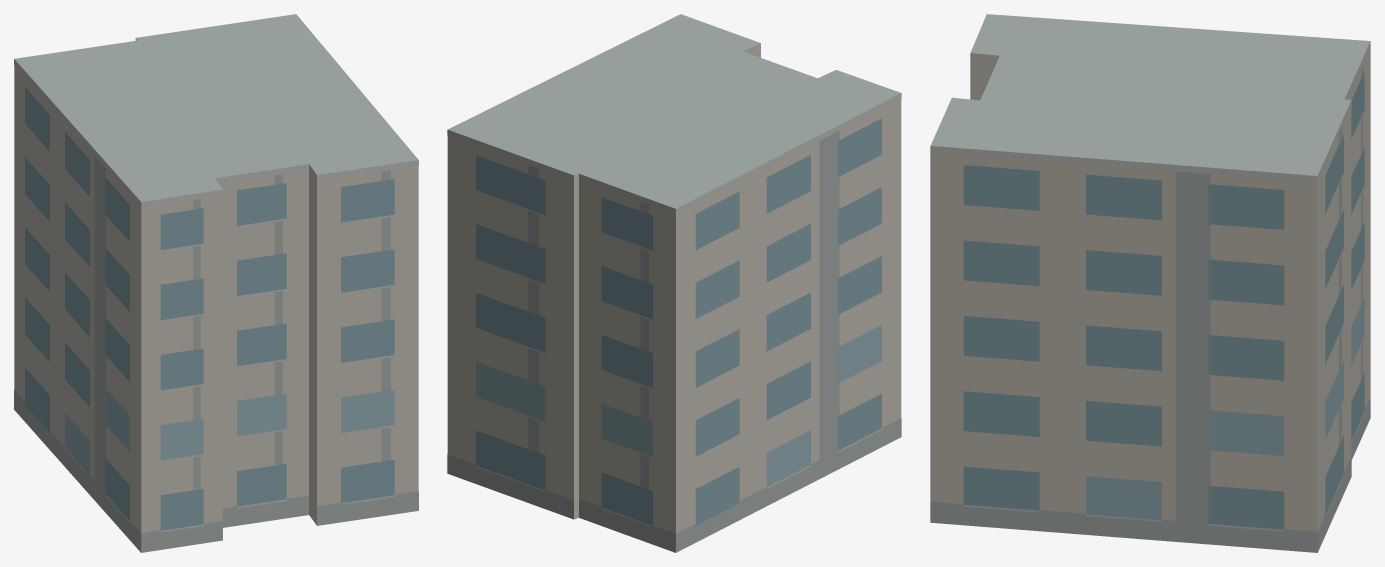
Rendered from survey-upis-32878563.glb.
The picture shows the model from 3 angles, left to right: view 1: azimuth 30°, elevation 25°; view 2: azimuth 150°, elevation 25°; view 3: azimuth 270°, elevation 25°; orthographic projection. The views are drawn at different scales.
Visible parts, largest first — view 1: survey-upis-32878563.tmp; view 2: survey-upis-32878563.tmp; view 3: survey-upis-32878563.tmp.
Boxes of the visible parts, x1,y1,x2,y2 form: survey-upis-32878563.tmp: [14, 14, 418, 552]; survey-upis-32878563.tmp: [447, 14, 901, 552]; survey-upis-32878563.tmp: [930, 14, 1370, 552].
Size of the model in its own units: 13.05 by 14.15 by 14.98.
